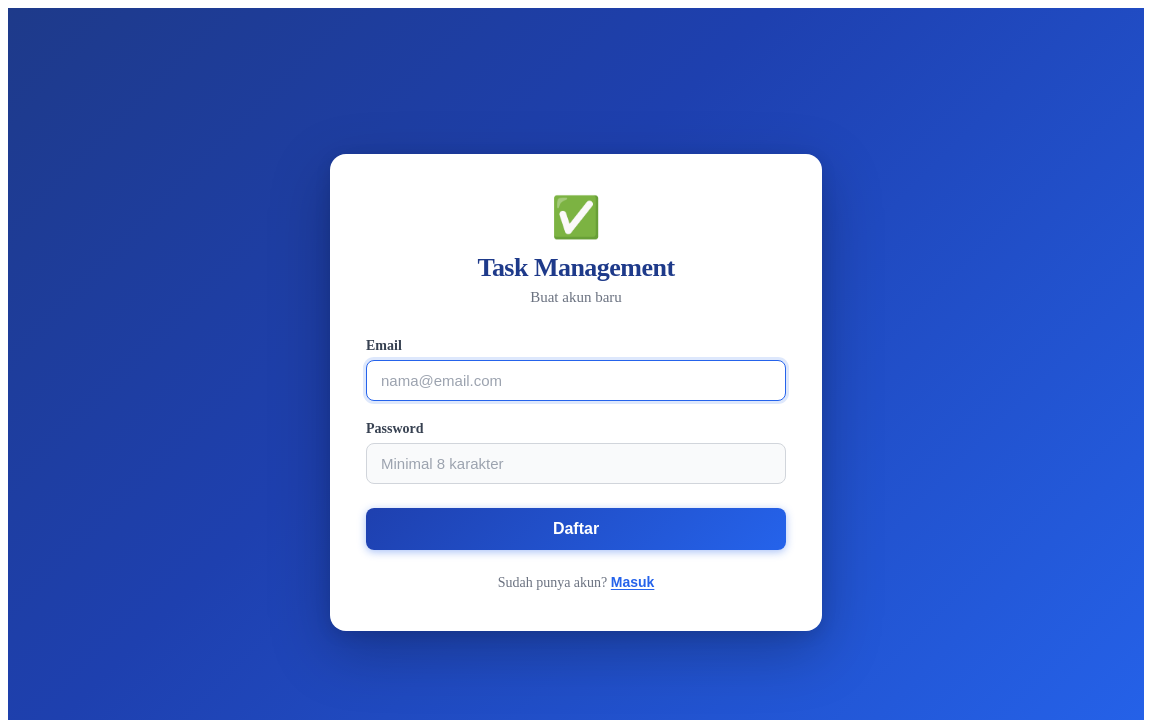
Test: RegisterForm › menampilkan pesan error 409 email sudah digunakan
Type "existing@example.com" into the field labelled "Email". click: coordinates (576, 380)
box: [366,360,786,400]
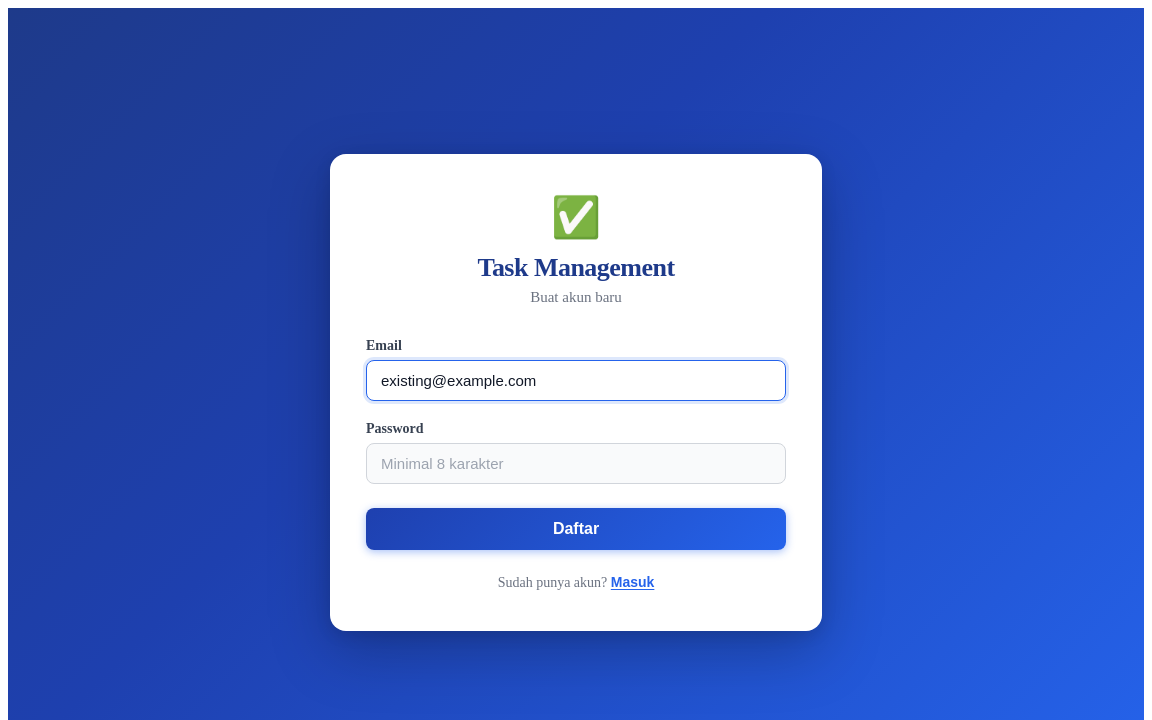
Type "password123" into the password field labelled "Password". click: coordinates (576, 463)
box: [366,442,786,484]
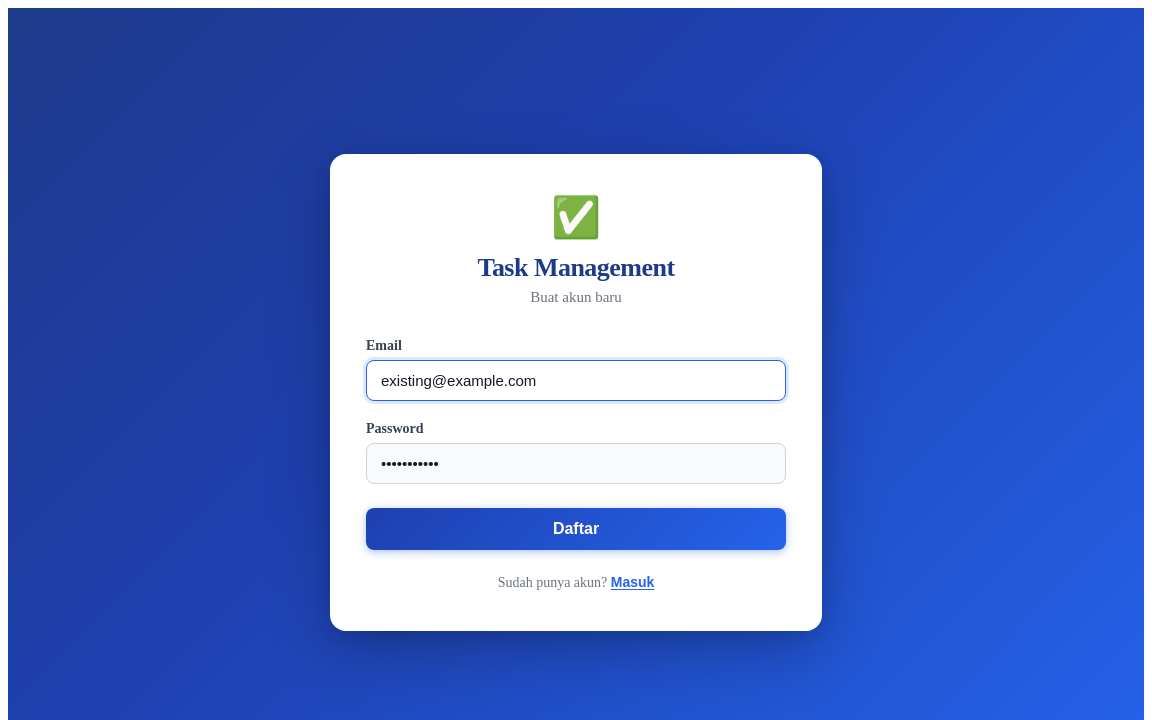
Click the button "Daftar". click: coordinates (576, 528)
box: [366,508,786,550]
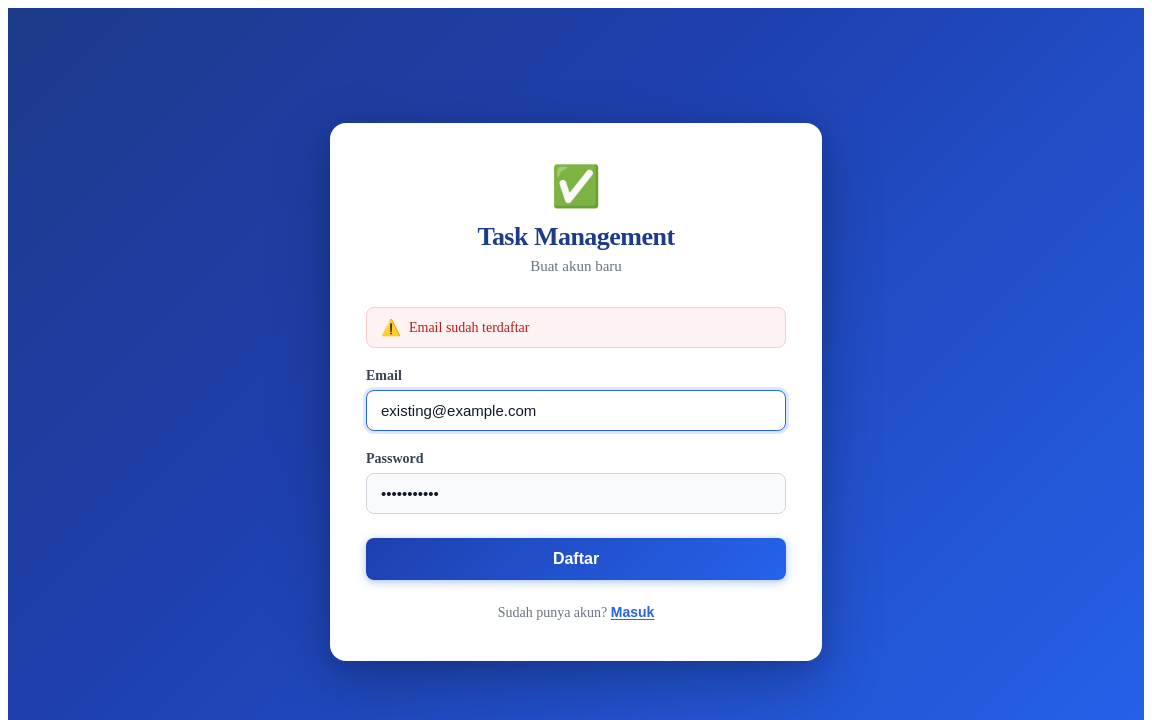
Result: the message shows "Email sudah terdaftar" at [409,320,530,334]
